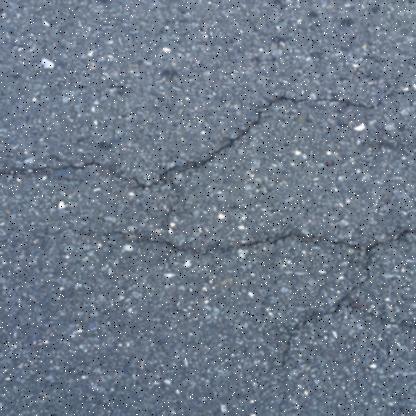Cracks: (62, 215, 416, 371), (0, 89, 411, 191)
